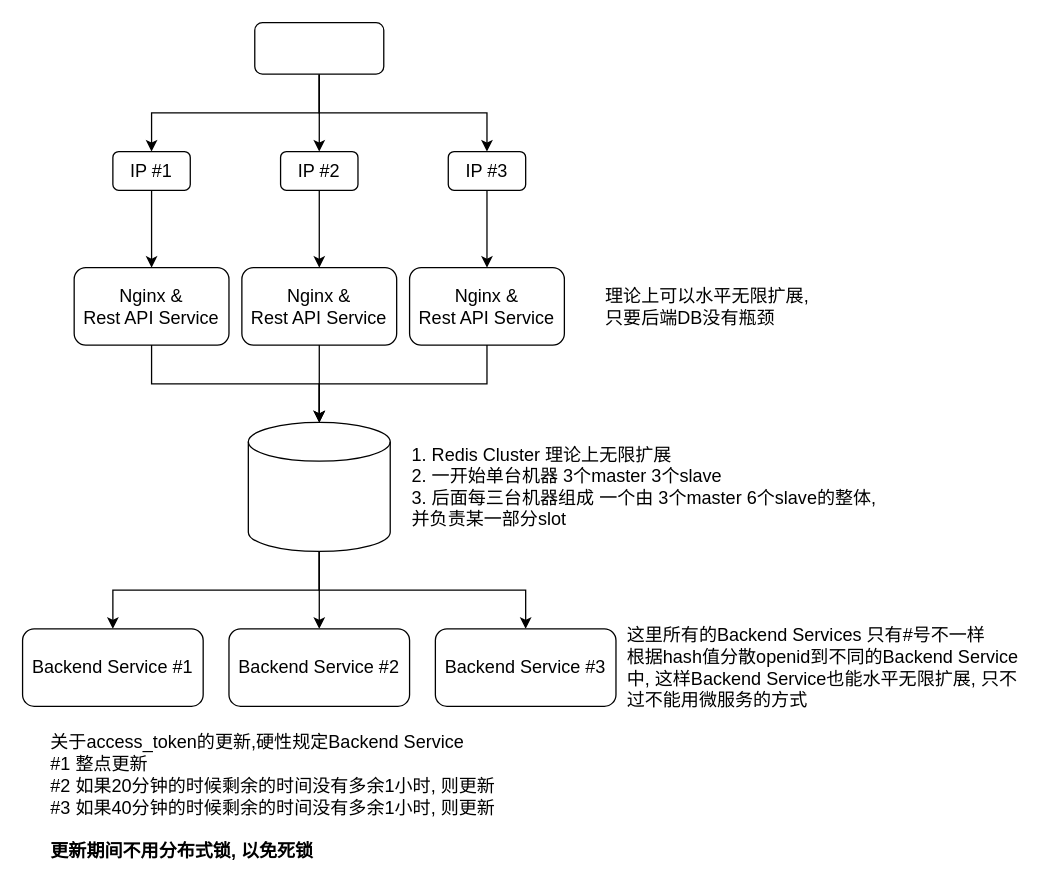
This 1051x890 diagram has some shape labels left out. Each missing label, with the centre of its shape:
"DNS or VIP" belongs at point (318, 47).
"Redis Cluster" belongs at point (318, 486).
